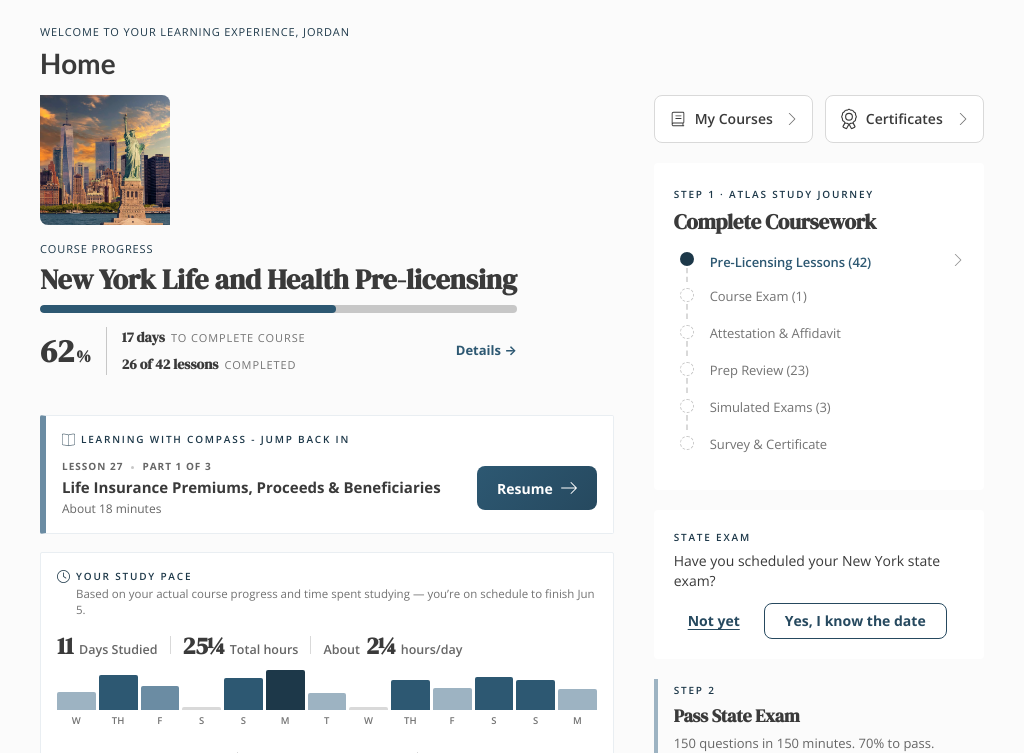
Test: the player states the course that was opened › names the same course and percentage as the card behind it
What coordinates should you click on to do the following:
click the button "Resume"
I would click on:
 (537, 488)
Its box is [477,466,597,510].
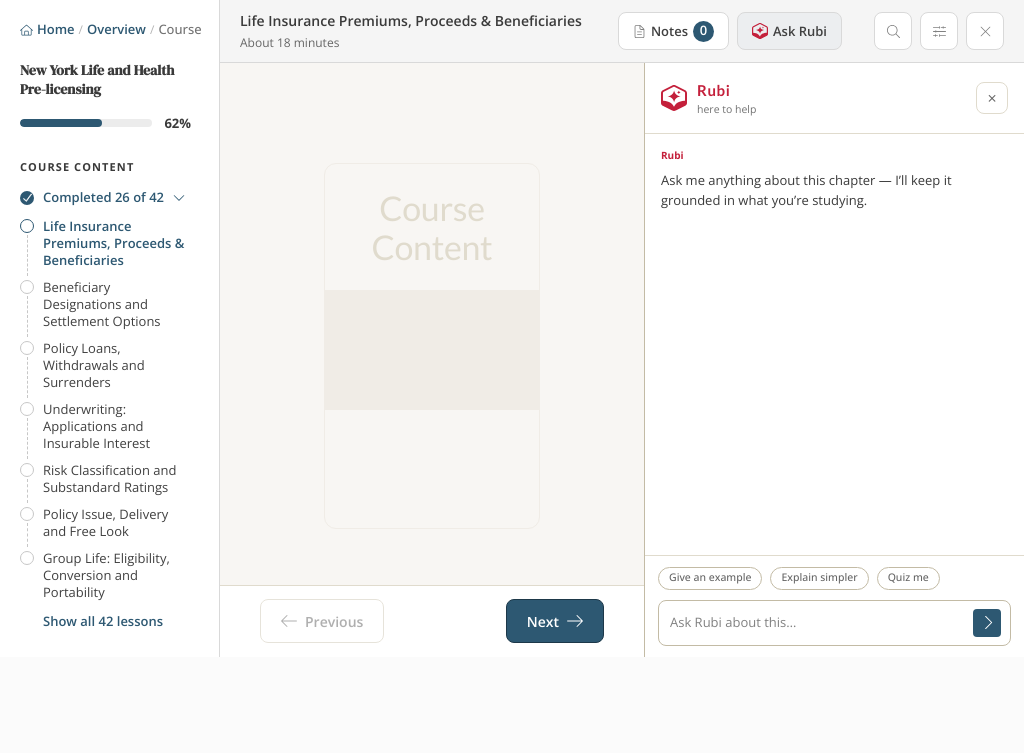
Expected: the heading reads "New York Life and Health Pre-licensing", [20,60,174,99]
